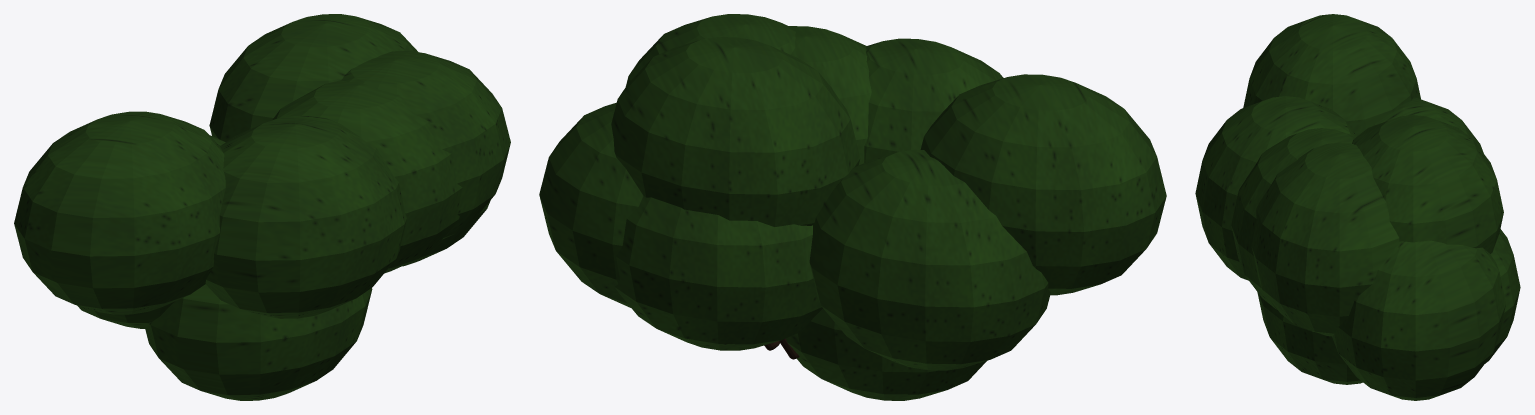
The model's file is PROP-595D1B8CDE5C_lod0.glb.
3 views of the same model, side by side, from view 1: azimuth 30°, elevation 25°; view 2: azimuth 150°, elevation 25°; view 3: azimuth 270°, elevation 25° (orthographic). The views are drawn at different scales.
Parts seen in each view (by area): view 1: foliage.004; view 2: foliage.004; view 3: foliage.004.
Boxes of the visible parts, x1,y1,x2,y2 form: foliage.004: (14, 14, 510, 400); foliage.004: (539, 14, 1166, 400); foliage.004: (1195, 14, 1520, 400).
Bounding box in the file's own units: 1.46 × 0.8594 × 0.8616.
Materials: 2 (2 with a texture image).
